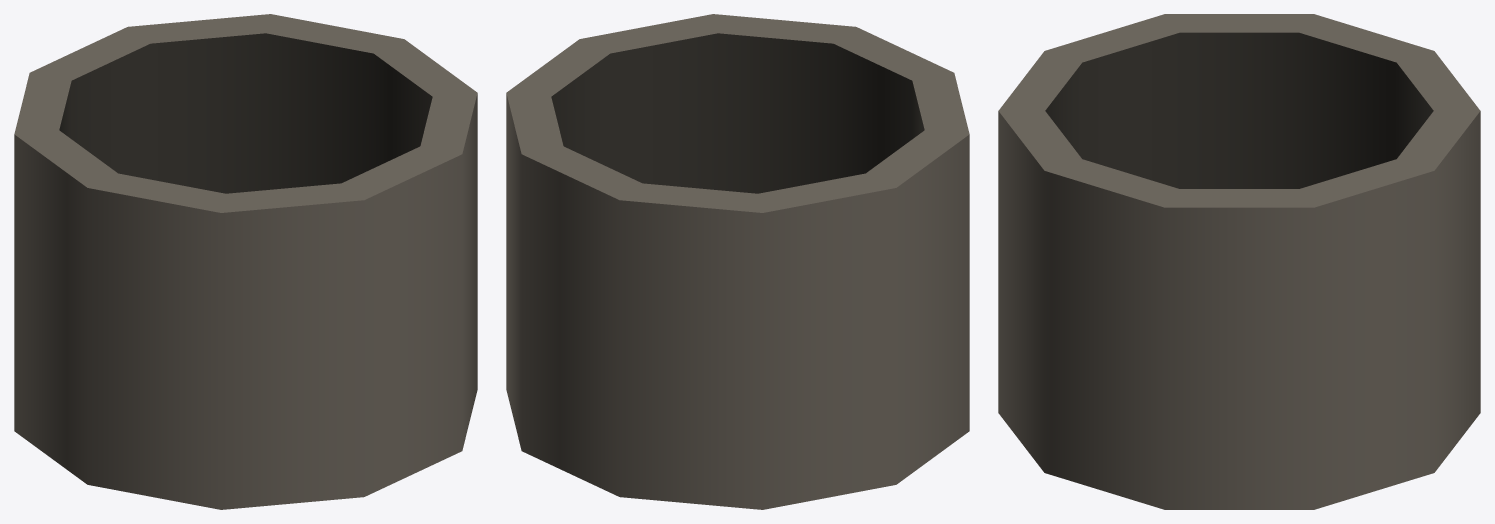
Rendered from Sumur_Tua.fbx.
3 renders of one model, left to right at view 1: azimuth 30°, elevation 25°; view 2: azimuth 150°, elevation 25°; view 3: azimuth 270°, elevation 25°, orthographic.
Parts seen in each view (by area): view 1: Sumur Tua; view 2: Sumur Tua; view 3: Sumur Tua.
Part boxes in pixels (bbox=[...]): Sumur Tua: bbox=[14, 14, 477, 509]; Sumur Tua: bbox=[506, 14, 969, 509]; Sumur Tua: bbox=[998, 14, 1480, 509].
Bounding box in the file's own units: 275 × 200 × 289.
Materials: 1 (1 with a texture image).
